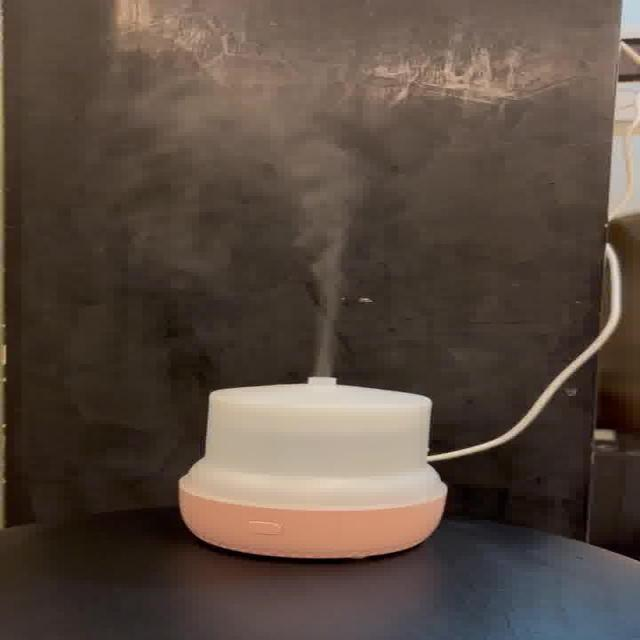fire: (186, 100, 372, 376)
